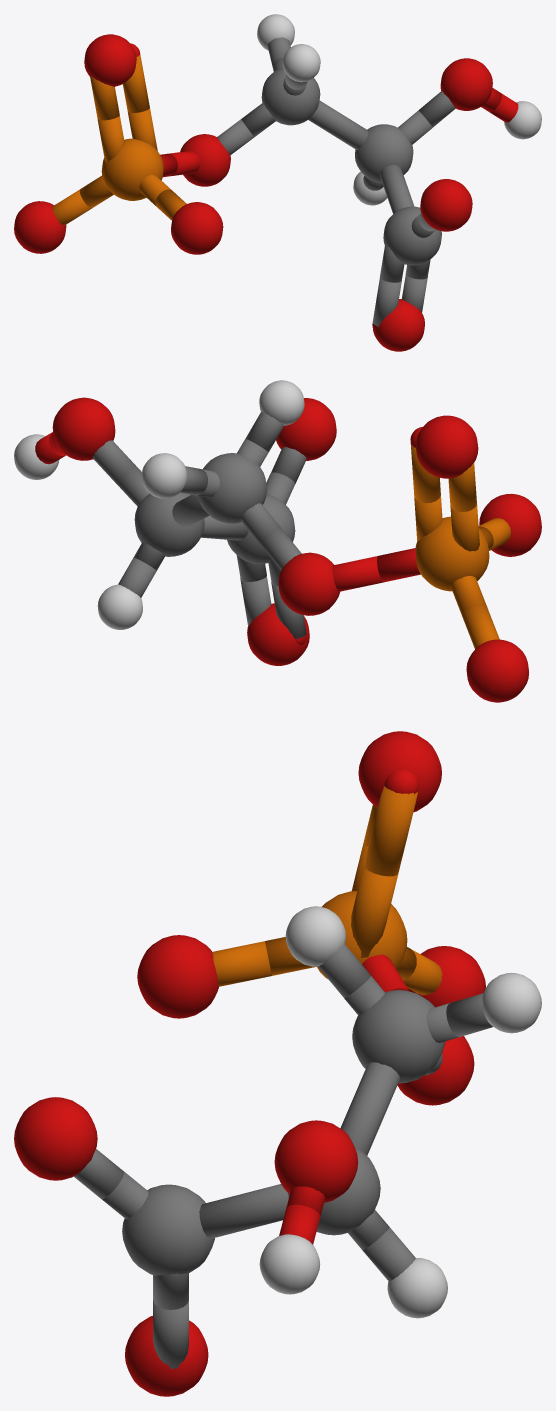
The model's file is 3_phosphoglycerate.obj.
3 renders of one model, top to bottom at view 1: azimuth 30°, elevation 25°; view 2: azimuth 150°, elevation 25°; view 3: azimuth 270°, elevation 25°, orthographic. The views are drawn at different scales.
Visible parts, largest first — view 1: ShapeSphere.007_ShapeSphere.033, ShapeSphere.002_ShapeSphere.032, ShapeSphere.005_ShapeSphere.031, ShapeSphere.010_ShapeSphere.031, ShapeSphere.009_ShapeSphere.031, ShapeSphere.004_ShapeSphere.031, ShapeSphere.003_ShapeSphere.032, ShapeSphere.001_ShapeSphere.032, ShapeSphere.008_ShapeSphere.031, ShapeSphere.006_ShapeSphere.031, ShapeSphere_ShapeSphere.031, ShapeCylinder.013_ShapeCylinder.044 (+23 smaller); view 2: ShapeSphere.007_ShapeSphere.033, ShapeSphere.001_ShapeSphere.032, ShapeSphere.008_ShapeSphere.031, ShapeSphere.009_ShapeSphere.031, ShapeSphere_ShapeSphere.031, ShapeSphere.004_ShapeSphere.031, ShapeSphere.002_ShapeSphere.032, ShapeSphere.010_ShapeSphere.031, ShapeSphere.005_ShapeSphere.031, ShapeSphere.006_ShapeSphere.031, ShapeSphere.011_ShapeSphere.034, ShapeSphere.013_ShapeSphere.034 (+29 smaller); view 3: ShapeSphere.003_ShapeSphere.032, ShapeSphere.001_ShapeSphere.032, ShapeSphere.005_ShapeSphere.031, ShapeSphere.010_ShapeSphere.031, ShapeSphere.004_ShapeSphere.031, ShapeSphere.009_ShapeSphere.031, ShapeSphere.006_ShapeSphere.031, ShapeCylinder.012_ShapeCylinder.043, Shape.006_ShapeCylinder.039, ShapeCylinder.013_ShapeCylinder.044, ShapeSphere.014_ShapeSphere.034, ShapeSphere.011_ShapeSphere.034 (+21 smaller).
Part boxes in pixels (x1,y1,x2,y2): ShapeSphere.007_ShapeSphere.033: (101,138,163,200); ShapeSphere.002_ShapeSphere.032: (355,124,413,182); ShapeSphere.005_ShapeSphere.031: (420,179,472,231); ShapeSphere.010_ShapeSphere.031: (171,202,223,254); ShapeSphere.009_ShapeSphere.031: (84,34,136,86); ShapeSphere.004_ShapeSphere.031: (440,58,492,110); ShapeSphere.003_ShapeSphere.032: (383,206,441,265); ShapeSphere.001_ShapeSphere.032: (261,67,320,125); ShapeSphere.008_ShapeSphere.031: (14,201,66,253); ShapeSphere.006_ShapeSphere.031: (372,299,424,351); ShapeSphere_ShapeSphere.031: (180,134,230,186); ShapeCylinder.013_ShapeCylinder.044: (308,100,368,149); ShapeSphere.007_ShapeSphere.033: (415,516,489,591); ShapeSphere.001_ShapeSphere.032: (198,453,266,523); ShapeSphere.008_ShapeSphere.031: (466,639,528,702); ShapeSphere.009_ShapeSphere.031: (415,415,478,478); ShapeSphere_ShapeSphere.031: (278,552,339,615); ShapeSphere.004_ShapeSphere.031: (52,397,115,460); ShapeSphere.002_ShapeSphere.032: (134,492,204,556); ShapeSphere.010_ShapeSphere.031: (479,493,541,556); ShapeSphere.005_ShapeSphere.031: (276,398,336,460); ShapeSphere.006_ShapeSphere.031: (247,603,309,665); ShapeSphere.011_ShapeSphere.034: (142,453,187,498); ShapeSphere.013_ShapeSphere.034: (97,584,142,629); ShapeSphere.003_ShapeSphere.032: (122,1184,214,1275); ShapeSphere.001_ShapeSphere.032: (352,990,445,1083); ShapeSphere.005_ShapeSphere.031: (14,1097,97,1180); ShapeSphere.010_ShapeSphere.031: (137,935,218,1018); ShapeSphere.004_ShapeSphere.031: (274,1120,358,1202); ShapeSphere.009_ShapeSphere.031: (358,731,441,812); ShapeSphere.006_ShapeSphere.031: (125,1316,208,1396); ShapeCylinder.012_ShapeCylinder.043: (199,1184,288,1238); Shape.006_ShapeCylinder.039: (363,786,418,876); ShapeCylinder.013_ShapeCylinder.044: (340,1062,400,1155); ShapeSphere.014_ShapeSphere.034: (259,1234,320,1294); ShapeSphere.011_ShapeSphere.034: (481,972,541,1033).
Bounding box in the file's own units: 7.23 × 4.54 × 4.41.
